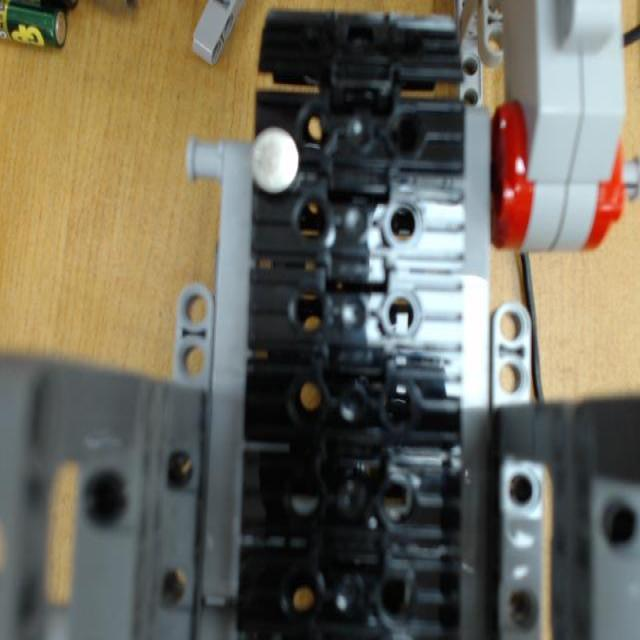COIN: (250, 128, 300, 195)
